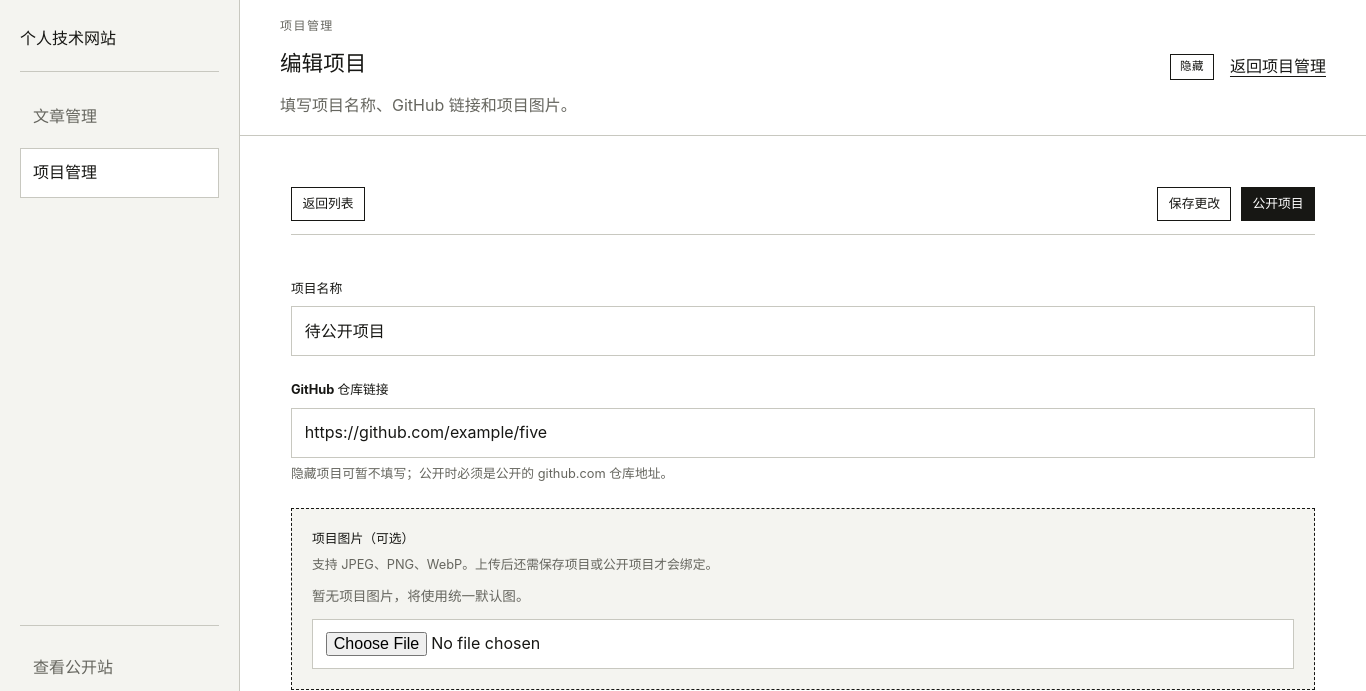
管理端路由页面 › 项目公开和隐藏使用完整请求体，并在状态变更后同步排序版本
Expected: the text with class "status" reads "隐藏", top-left (1180, 59), bottom-right (1204, 73)
Expected: the link "返回项目管理" is shown, top-left (1230, 54), bottom-right (1326, 80)
Click the button with class "button--primary": x=1278, y=204 top-left (1241, 187), bottom-right (1315, 221)
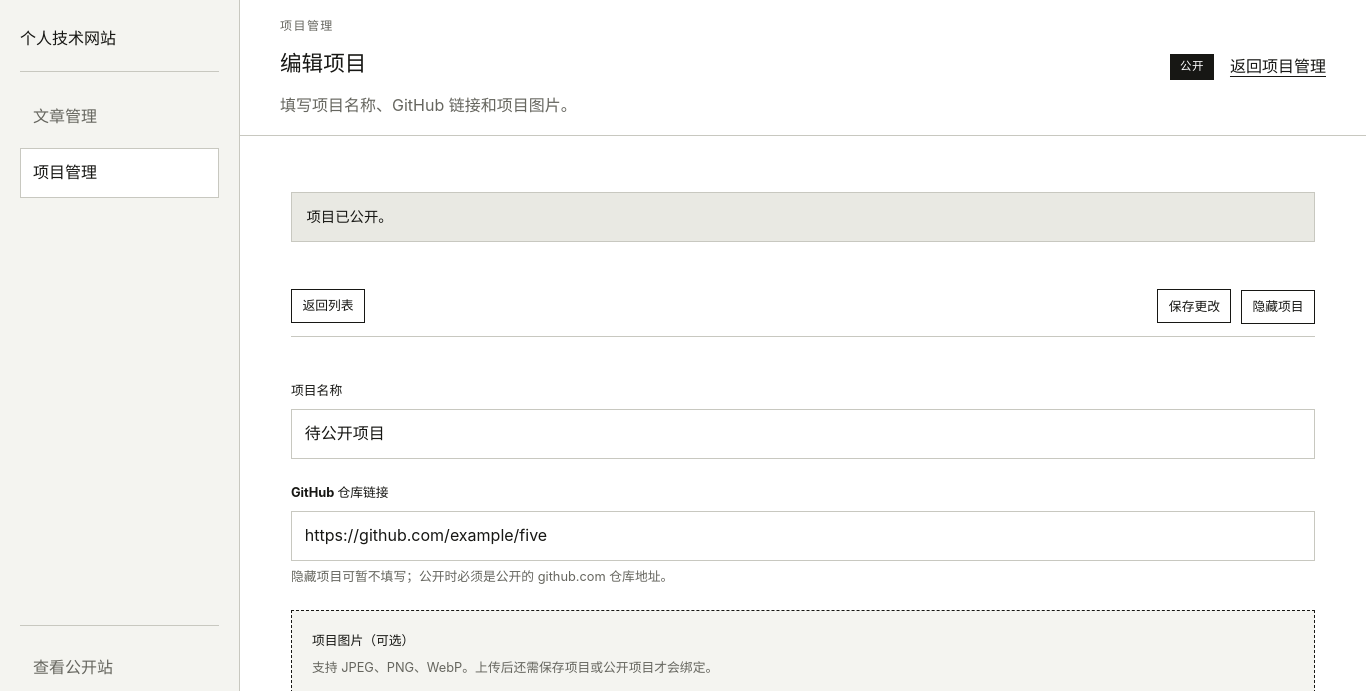
Click the button with class "button--danger": x=1278, y=307 top-left (1241, 290), bottom-right (1315, 324)
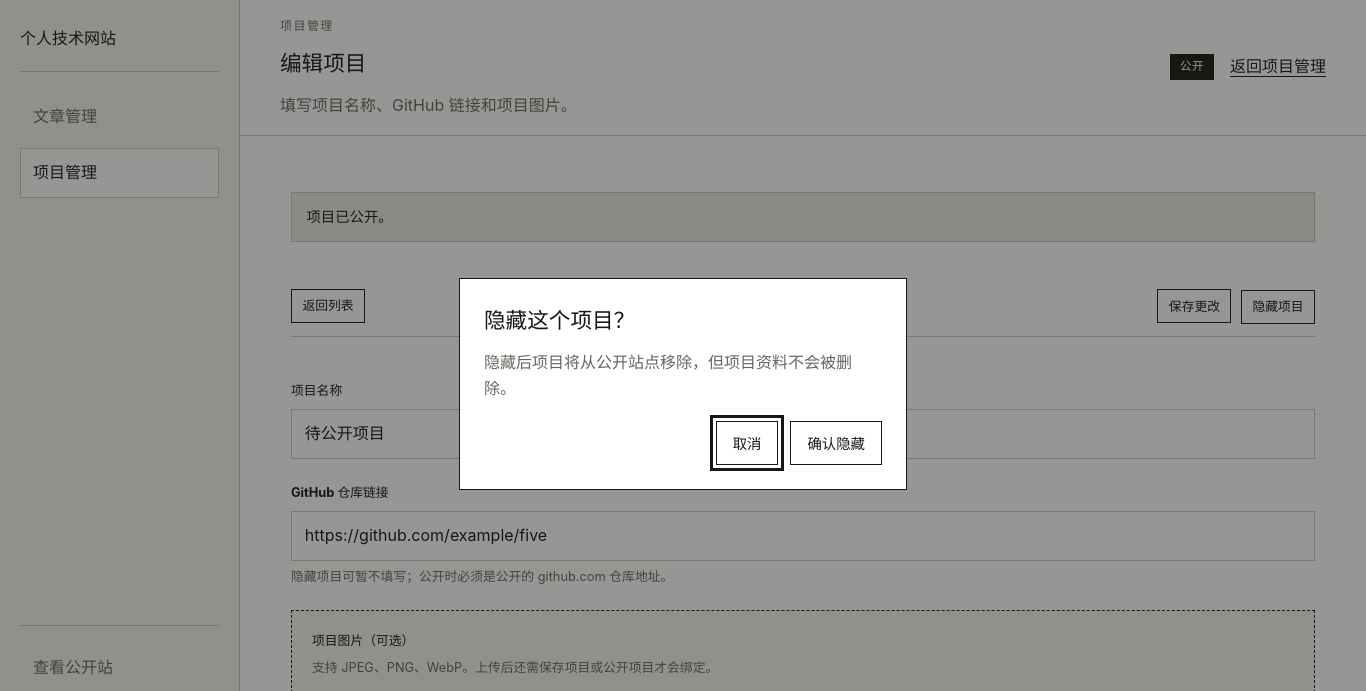
Click the button with class "button--danger" showing "确认隐藏": x=836, y=443 top-left (790, 421), bottom-right (882, 465)
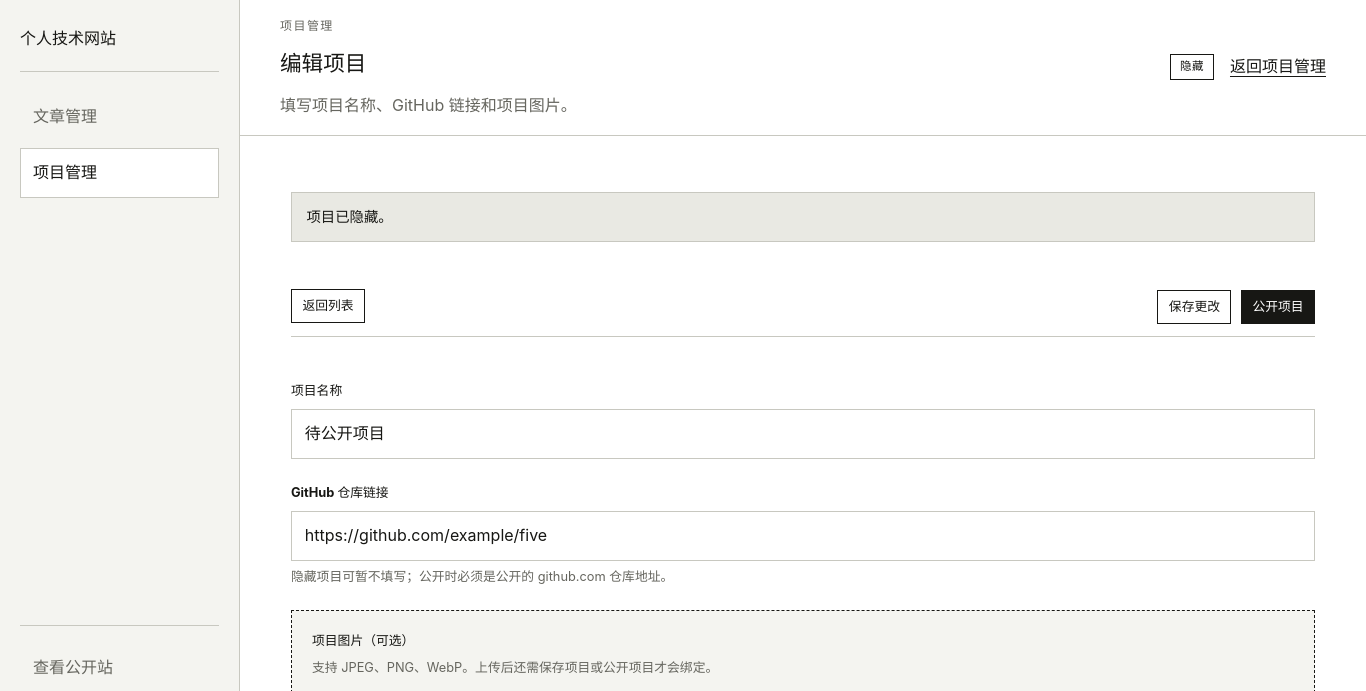
Expected: the text "项目已隐藏" is shown, top-left (306, 208), bottom-right (393, 225)
